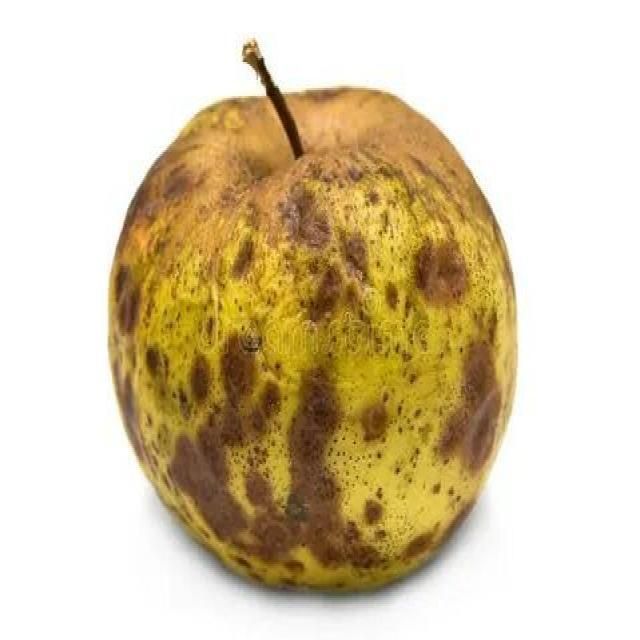Rotten: (109, 90, 518, 598)
